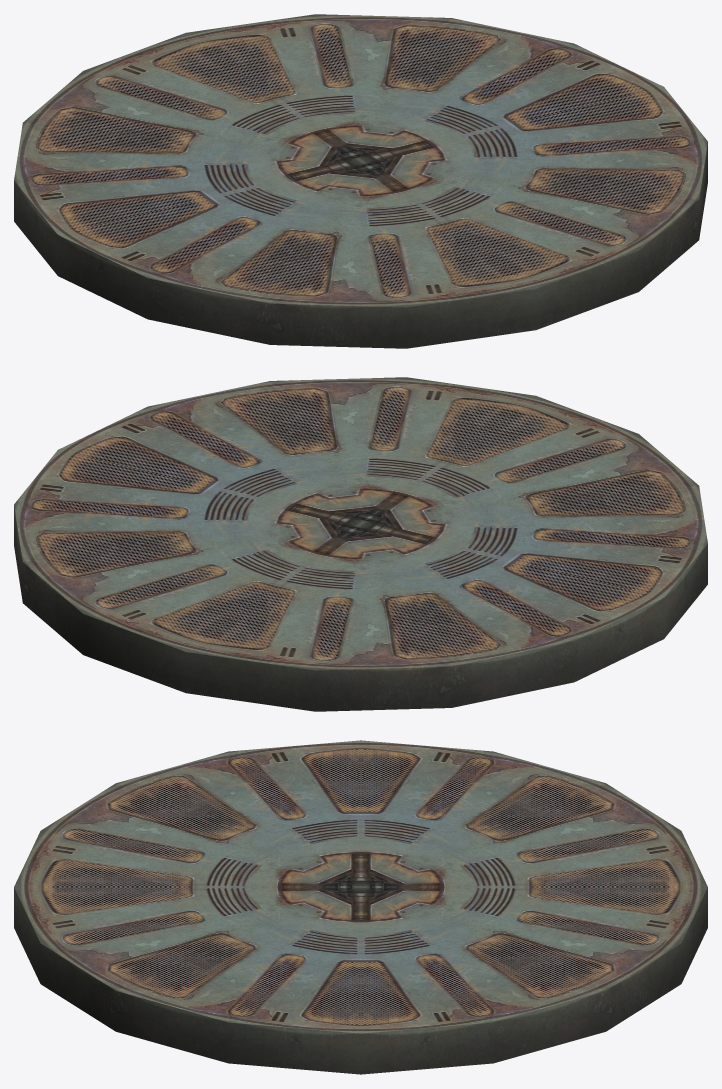
File: leinabaobianyuan_dayuanpan.FBX
3 renders of one model, top to bottom at view 1: azimuth 30°, elevation 25°; view 2: azimuth 150°, elevation 25°; view 3: azimuth 270°, elevation 25°, orthographic.
Visible parts, largest first — view 1: leinabaobianyuan_dayuanpan; view 2: leinabaobianyuan_dayuanpan; view 3: leinabaobianyuan_dayuanpan.
Boxes of the visible parts, <box> form: leinabaobianyuan_dayuanpan: <box>14,14,707,348</box>; leinabaobianyuan_dayuanpan: <box>14,377,707,711</box>; leinabaobianyuan_dayuanpan: <box>14,740,707,1074</box>.
Size of the model in its own units: 1820 by 118 by 1820.
